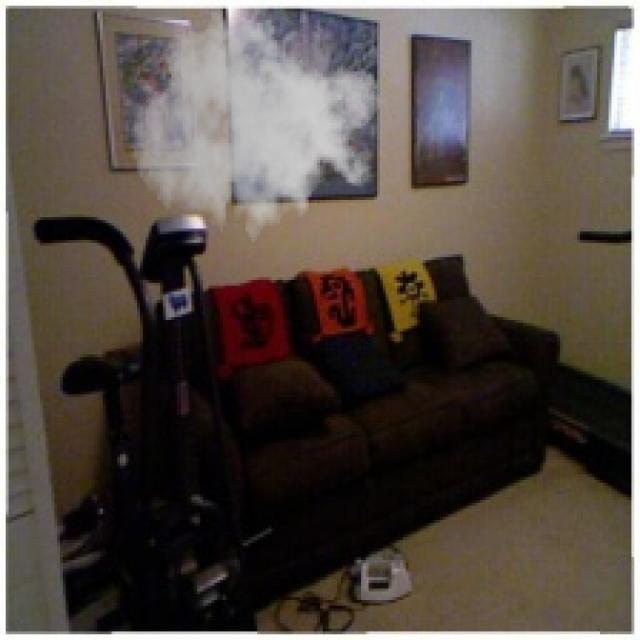Smoke: (131, 3, 383, 254)
